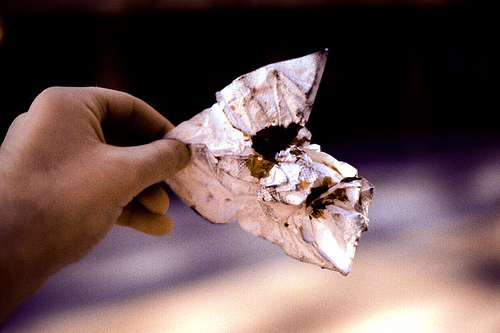litter: (153, 46, 374, 278)
